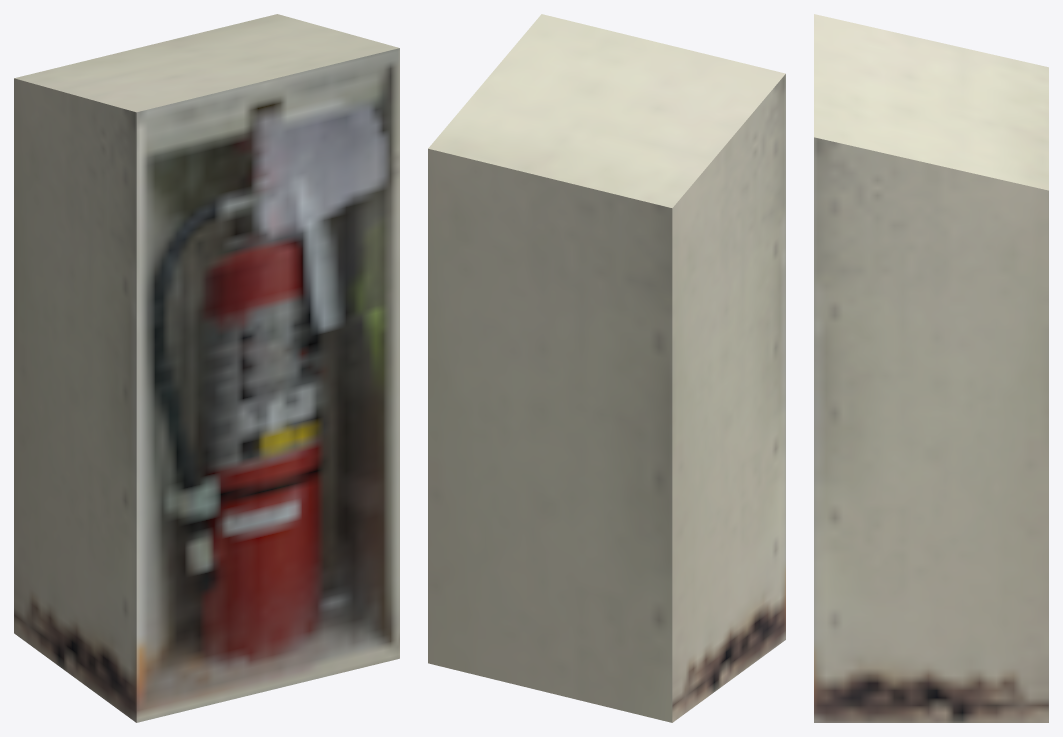
File: Classic64_ExtinguisherCase_Model.fbx
3 views of the same model, side by side, from view 1: azimuth 30°, elevation 25°; view 2: azimuth 150°, elevation 25°; view 3: azimuth 270°, elevation 25° (orthographic). The views are drawn at different scales.
Visible parts, largest first — view 1: Classic64_ExtinguisherCase_Part00; view 2: Classic64_ExtinguisherCase_Part00; view 3: Classic64_ExtinguisherCase_Part00.
Part boxes in pixels (x1,y1,x2,y2): Classic64_ExtinguisherCase_Part00: [14, 14, 399, 722]; Classic64_ExtinguisherCase_Part00: [428, 14, 785, 722]; Classic64_ExtinguisherCase_Part00: [814, 14, 1048, 722].
Size of the model in its own units: 0.2524 by 0.5589 by 0.2032.
1 material, 1 textured.
